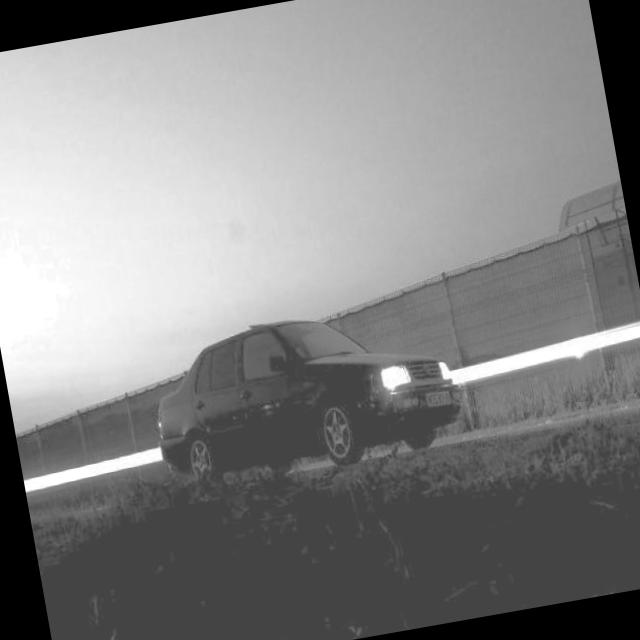Car: (110, 258, 497, 537)
